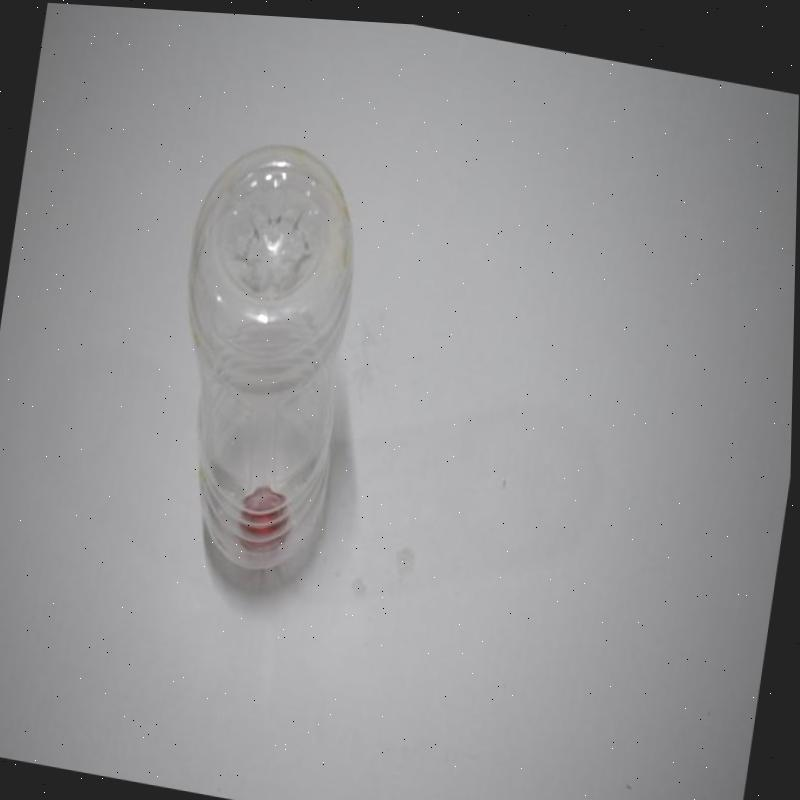botella: (141, 121, 379, 582)
